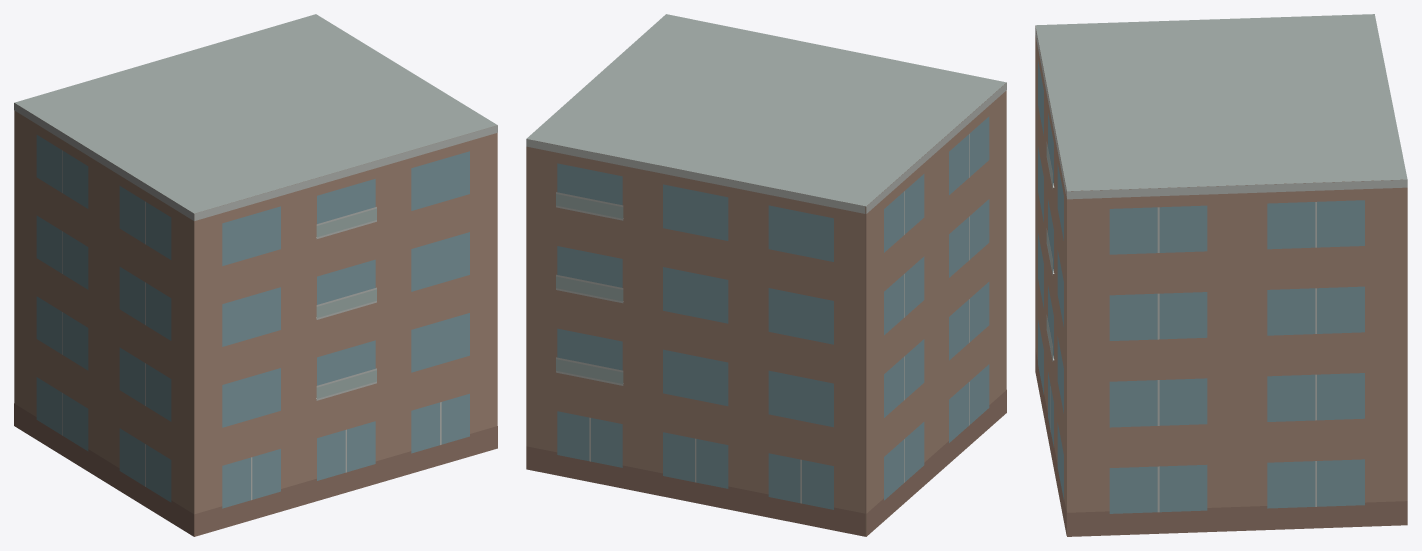
File: survey-upis-32702897.glb
3 views of the same model, side by side, from view 1: azimuth 30°, elevation 25°; view 2: azimuth 150°, elevation 25°; view 3: azimuth 270°, elevation 25° (orthographic). The views are drawn at different scales.
Parts seen in each view (by area): view 1: survey-upis-32702897.tmp; view 2: survey-upis-32702897.tmp; view 3: survey-upis-32702897.tmp.
Part boxes in pixels (x1,y1,x2,y2): survey-upis-32702897.tmp: [14, 14, 497, 536]; survey-upis-32702897.tmp: [526, 14, 1006, 536]; survey-upis-32702897.tmp: [1035, 14, 1407, 536].
Bounding box in the file's own units: 11.45 × 10.4 × 10.16.
